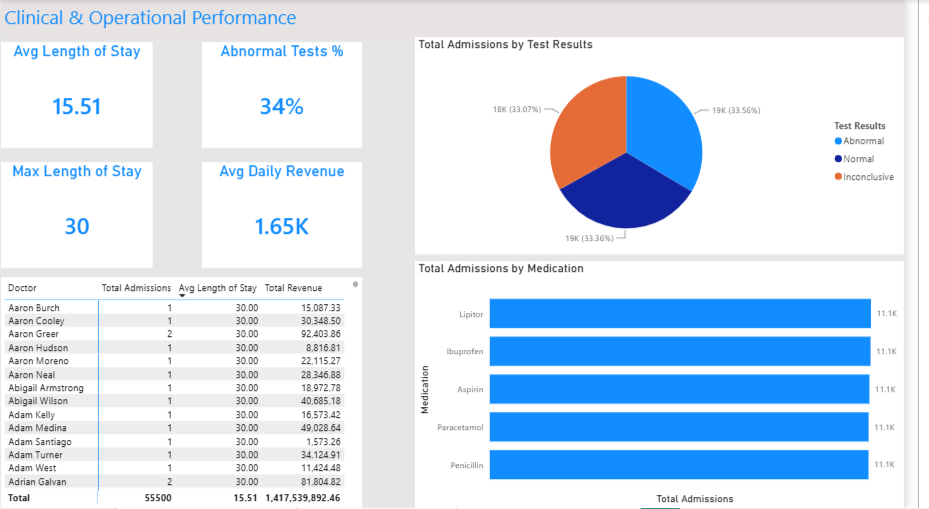

The page's visual inventory and layout, read from the dashboard file:
{"tool":"powerbi","page":{"name":"Clinical & Operational","canvas":[1280,720],"ordinal":1},"visuals":[{"type":"textbox","box":[0,0,1279.8,52.4],"z":0},{"type":"cardVisual","title":"Avg Length of Stay","fields":{"Data":["_Measures.Avg Length of Stay"]},"box":[0,59.5,215.4,150.2],"z":1000},{"type":"cardVisual","title":"Abnormal Tests %","fields":{"Data":["_Measures.Abnormal Tests %"]},"box":[284.9,59.5,226.8,150.2],"z":2000},{"type":"cardVisual","title":"Max Length of Stay","fields":{"Data":["_Measures.Max Length of Stay"]},"box":[0,229.6,215.4,150.2],"z":3000},{"type":"cardVisual","title":"Avg Daily Revenue","fields":{"Data":["_Measures.Avg Daily Revenue"]},"box":[284.9,229.6,226.8,150.2],"z":4000},{"type":"clusteredBarChart","fields":{"Y":["_Measures.Total Admissions"],"Category":["healthcare_dataset.Medication"]},"box":[586.8,369.9,693.1,350.1],"z":5000},{"type":"pieChart","fields":{"Category":["healthcare_dataset.Test Results"],"Y":["_Measures.Total Admissions"]},"box":[586.8,52.4,693.1,307.6],"z":7000},{"type":"pivotTable","fields":{"Rows":["healthcare_dataset.Doctor"],"Values":["_Measures.Total Admissions","_Measures.Avg Length of Stay","_Measures.Total Revenue"]},"box":[0,392.6,511.7,327.4],"z":8000}]}

Visuals, with their boxes in screenshot pixels (x1, y1, x2, y2), scaled from the page's 1280x720 canvas onto the 929x509 screenshot:
textbox: (0, 0, 928, 37)
"Avg Length of Stay" cardVisual: (0, 42, 156, 148)
"Abnormal Tests %" cardVisual: (207, 42, 371, 148)
"Max Length of Stay" cardVisual: (0, 162, 156, 268)
"Avg Daily Revenue" cardVisual: (207, 162, 371, 268)
clusteredBarChart - _Measures.Total Admissions x healthcare_dataset.Medication: (426, 261, 928, 508)
pieChart - healthcare_dataset.Test Results x _Measures.Total Admissions: (426, 37, 928, 255)
pivotTable - healthcare_dataset.Doctor x _Measures.Total Admissions: (0, 278, 371, 508)
